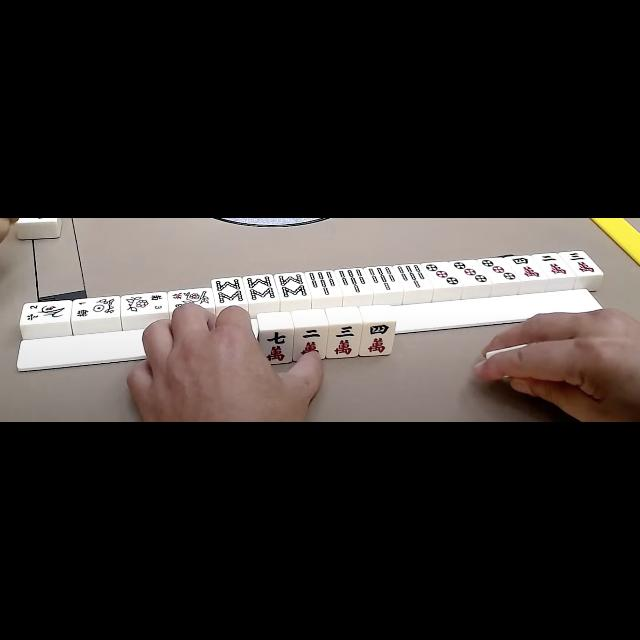b7: (366, 266, 398, 292), (337, 268, 368, 294), (398, 264, 428, 290), (307, 272, 338, 296)
b8: (213, 277, 245, 305), (277, 273, 309, 301), (246, 276, 276, 302)
c2: (296, 326, 326, 359), (540, 254, 570, 278)
c3: (328, 324, 360, 358), (568, 251, 598, 275)
c4: (362, 322, 394, 356), (510, 255, 540, 278)
c7: (261, 329, 293, 365)
d3: (453, 260, 487, 286), (425, 263, 459, 287), (482, 258, 516, 282)
f1: (74, 296, 92, 320)
f2: (22, 302, 42, 324)
f3: (148, 292, 166, 316)
s3: (168, 289, 186, 311)
